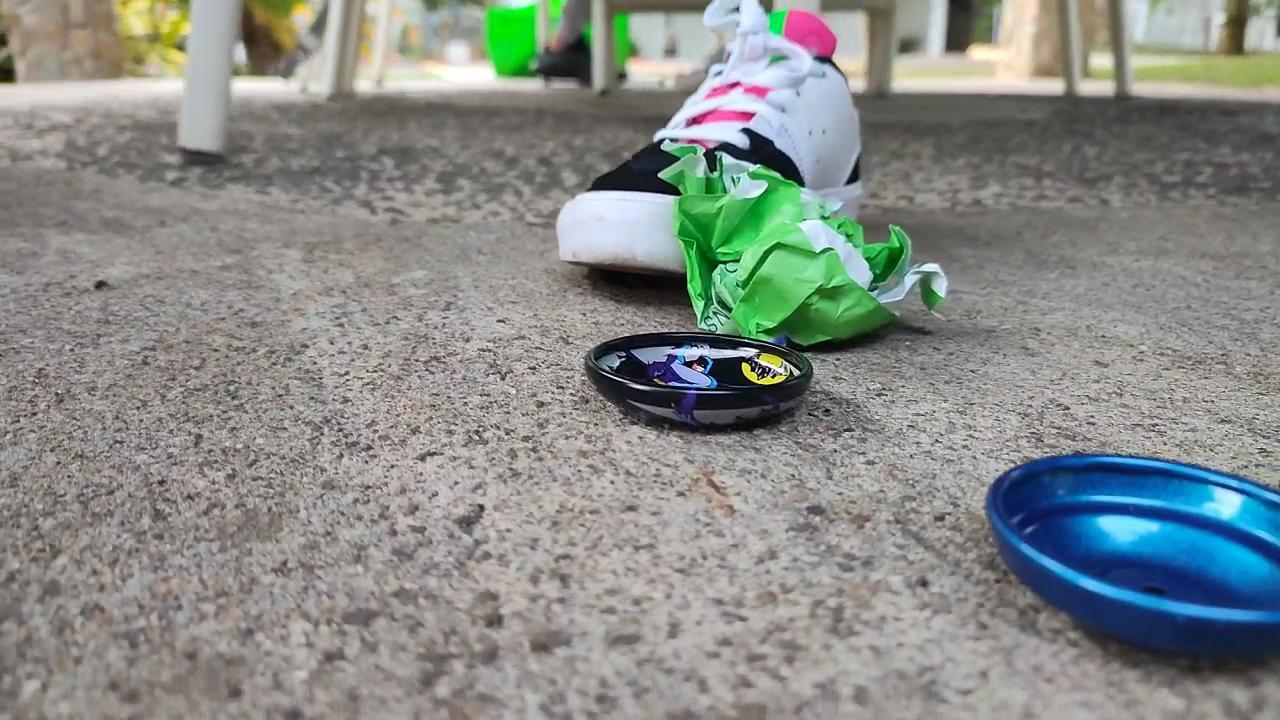Paper: (652, 132, 958, 355)
